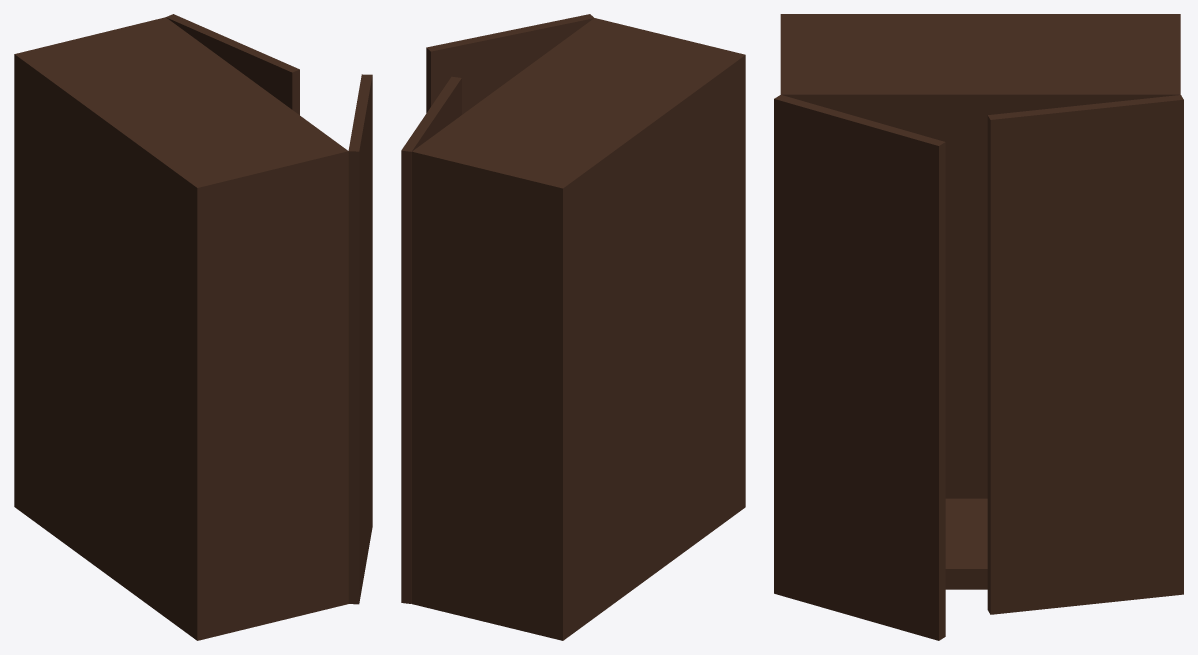
File: cupboard.fbx
The picture shows the model from 3 angles, left to right: view 1: azimuth 30°, elevation 25°; view 2: azimuth 150°, elevation 25°; view 3: azimuth 270°, elevation 25°; orthographic projection. The views are drawn at different scales.
Parts seen in each view (by area): view 1: cupboard, Cube.001, Cube; view 2: cupboard, Cube.001, Cube; view 3: Cube, Cube.001, cupboard.
Part boxes in pixels (left/top/right/bottom): cupboard: left=14, top=17, right=348, bottom=640; Cube.001: left=348, top=74, right=372, bottom=604; Cube: left=166, top=14, right=299, bottom=114; cupboard: left=412, top=18, right=745, bottom=640; Cube.001: left=426, top=14, right=593, bottom=114; Cube: left=401, top=76, right=461, bottom=603; Cube: left=987, top=95, right=1183, bottom=614; Cube.001: left=774, top=95, right=945, bottom=640; cupboard: left=780, top=14, right=1180, bottom=589.
Size of the model in its own units: 405 by 708 by 531.
